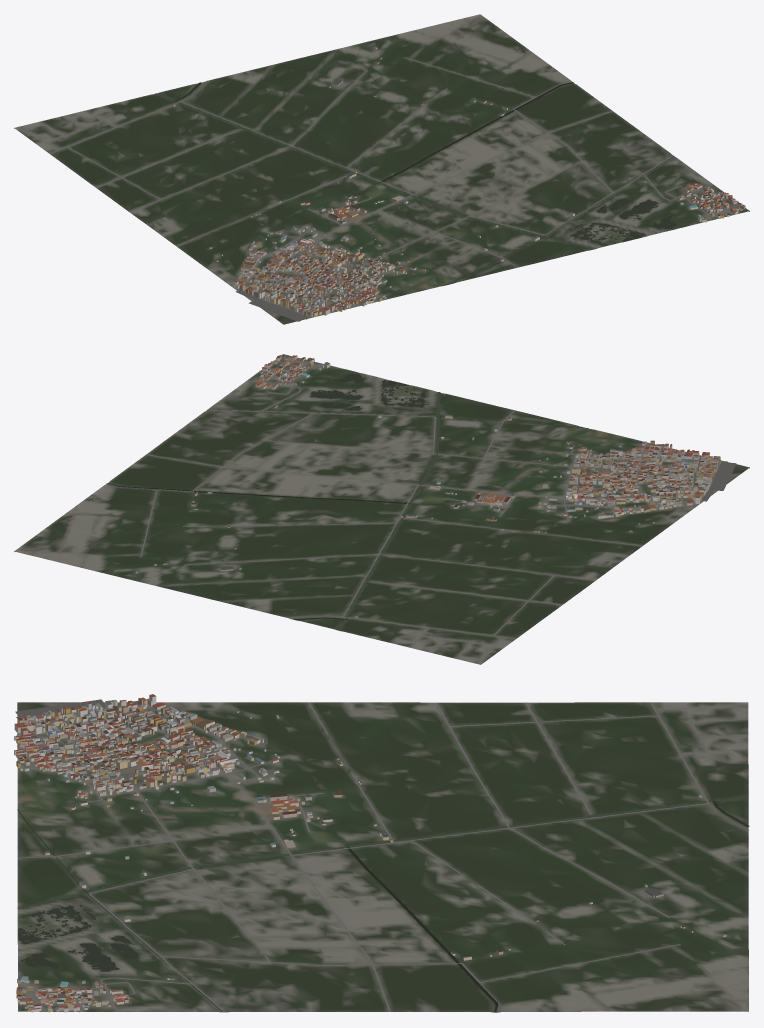
3 renders of one model, top to bottom at view 1: azimuth 30°, elevation 25°; view 2: azimuth 150°, elevation 25°; view 3: azimuth 270°, elevation 25°, orthographic. The views are drawn at different scales.
Parts seen in each view (by area): view 1: ground, buildings, roads, water; view 2: ground, buildings, roads, water; view 3: ground, buildings, roads, water.
Boxes of the visible parts, bbox=[...] form: ground: bbox=[14, 14, 749, 324]; buildings: bbox=[172, 46, 745, 316]; roads: bbox=[17, 15, 736, 321]; water: bbox=[155, 79, 675, 285]; ground: bbox=[14, 354, 749, 664]; buildings: bbox=[135, 355, 720, 617]; roads: bbox=[15, 357, 738, 664]; water: bbox=[106, 373, 588, 630]; ground: bbox=[17, 702, 748, 1012]; buildings: bbox=[14, 694, 726, 1012]; roads: bbox=[15, 699, 748, 1012]; water: bbox=[17, 795, 749, 1012].
Size of the model in its own units: 1417 by 24.93 by 1411.
